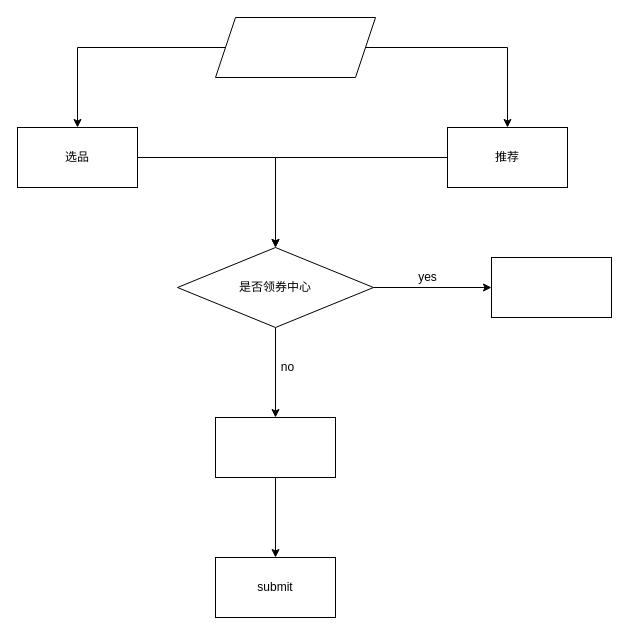
The diagram is 629 pixels wide and 635 high, and some of its shapes have lost their labels. Here are the shapes that lost their labels. From the top down, the centre of each, then its label:
pixel 295 47: 进入批量报名页
pixel 275 447: batchTable
